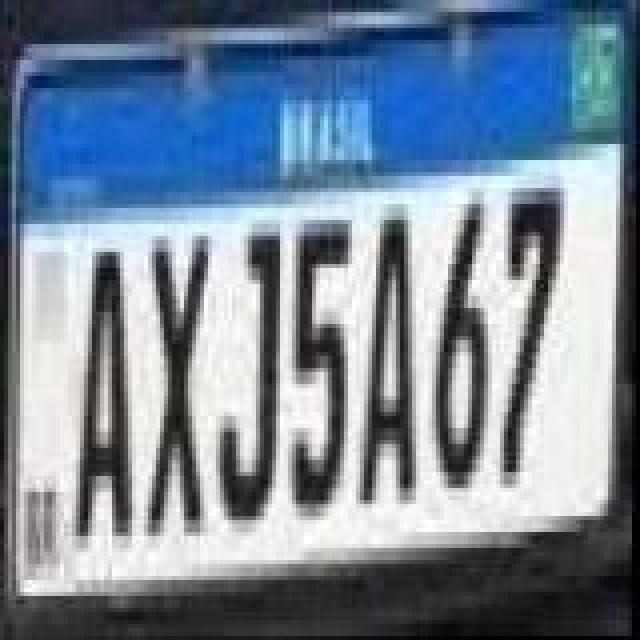5: (290, 206, 358, 518)
6: (428, 194, 492, 506)
7: (498, 176, 566, 488)
A: (74, 236, 142, 548), (354, 210, 422, 506)
J: (218, 222, 286, 534)
X: (146, 218, 214, 546)
